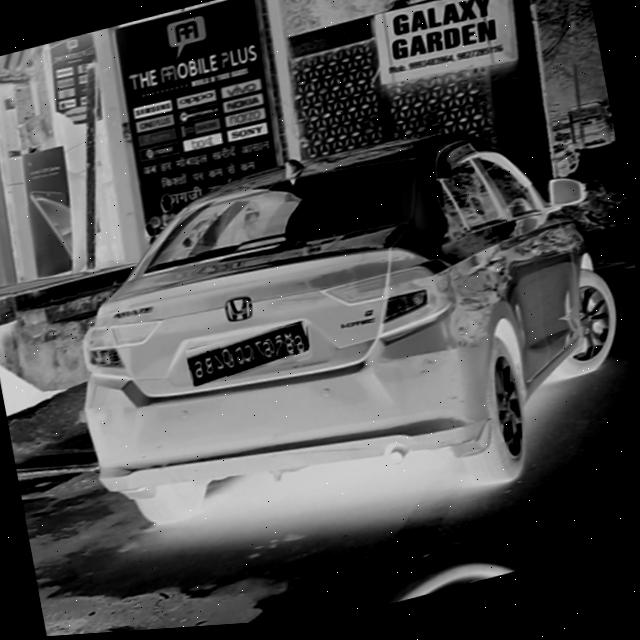0: (223, 351, 234, 368)
4: (274, 342, 286, 359)
6: (264, 343, 275, 361), (296, 338, 307, 356)
7: (232, 347, 245, 368)
8: (285, 340, 296, 358)
C: (243, 347, 254, 365)
G: (253, 345, 265, 364)
IND: (191, 353, 204, 371)
Indian_registered: (190, 327, 310, 389)
M: (202, 354, 214, 373)
P: (212, 353, 224, 370)
